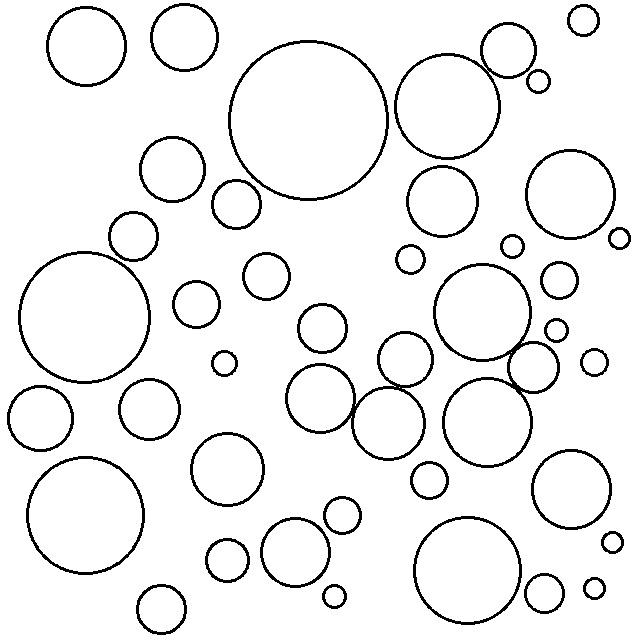circle: (225, 37, 392, 206), (17, 247, 155, 386), (20, 452, 148, 578), (410, 510, 525, 632), (395, 50, 505, 163), (433, 262, 535, 364), (524, 146, 619, 244), (441, 375, 536, 470), (42, 2, 131, 92), (528, 446, 616, 532), (189, 431, 270, 511), (351, 382, 427, 464), (256, 514, 334, 592), (402, 163, 482, 239), (282, 360, 357, 438), (148, 0, 221, 78), (5, 384, 77, 457), (137, 132, 208, 204), (115, 377, 184, 444), (373, 327, 439, 389), (478, 19, 540, 82), (294, 300, 353, 359), (168, 274, 226, 334), (207, 176, 264, 234), (238, 247, 295, 305), (104, 209, 163, 264), (135, 581, 191, 637), (203, 534, 252, 584), (408, 455, 453, 505), (536, 256, 583, 303), (320, 492, 365, 538), (523, 570, 568, 615), (565, 0, 604, 43), (391, 238, 429, 278), (205, 346, 244, 381), (578, 342, 612, 382), (495, 229, 530, 263), (523, 66, 554, 97), (319, 581, 350, 612), (581, 570, 609, 603), (598, 526, 627, 557), (543, 315, 573, 344), (607, 221, 633, 253)
